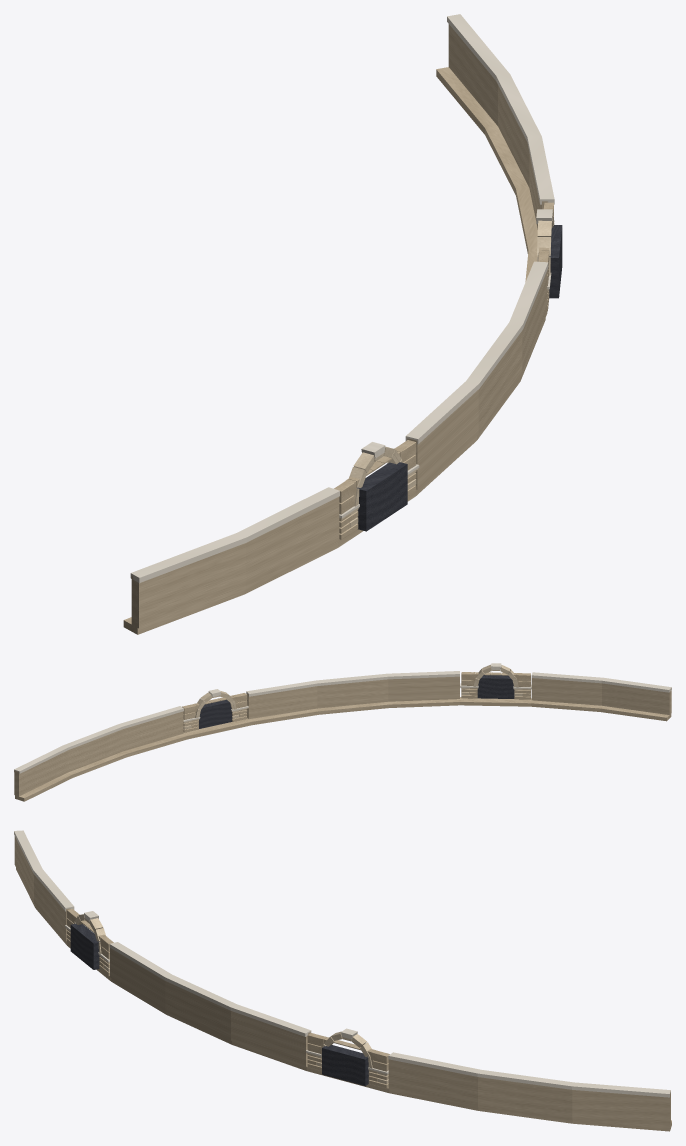
The model's file is COL_Vomitoria_Q1.obj.
The picture shows the model from 3 angles, top to bottom: view 1: azimuth 30°, elevation 25°; view 2: azimuth 150°, elevation 25°; view 3: azimuth 270°, elevation 25°; orthographic projection. The views are drawn at different scales.
Parts seen in each view (by area): view 1: COL_Vomitoria_Q1; view 2: COL_Vomitoria_Q1; view 3: COL_Vomitoria_Q1.
Boxes of the visible parts, box(x1,y1,x2,y2) form: COL_Vomitoria_Q1: box(123, 14, 562, 634); COL_Vomitoria_Q1: box(14, 663, 671, 801); COL_Vomitoria_Q1: box(14, 830, 671, 1131).
Size of the model in its own units: 97.89 by 8.54 by 103.
4 materials, 4 textured.
